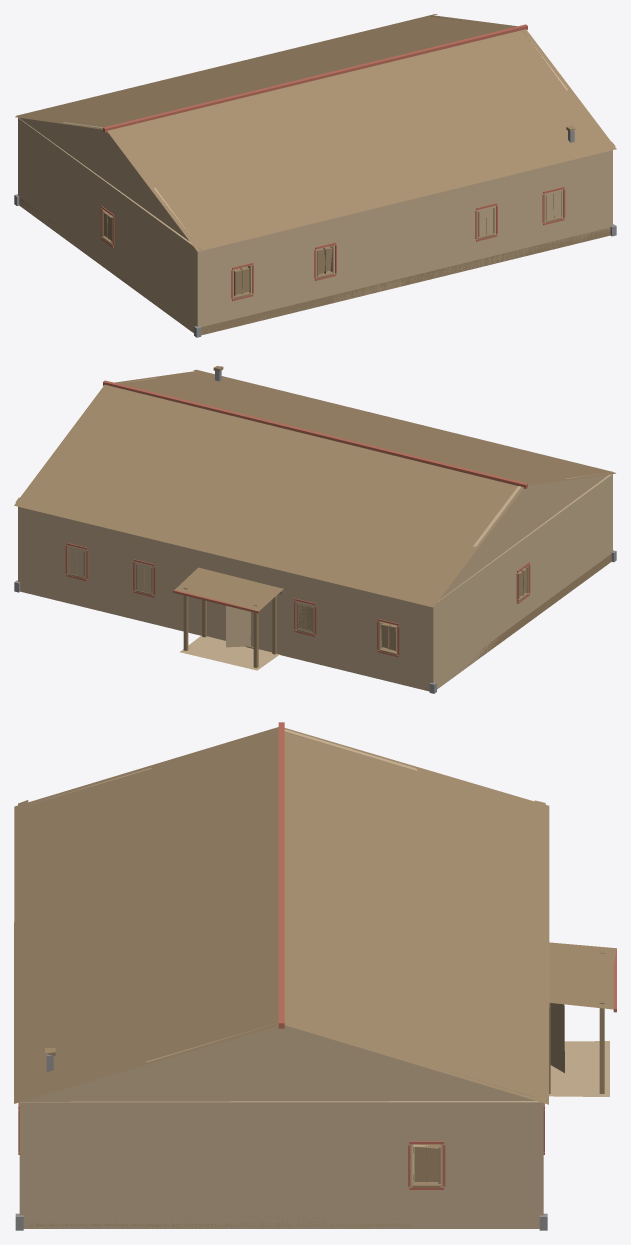
The model's file is 18-Casas_casa_mediana.glb.
3 renders of one model, top to bottom at view 1: azimuth 30°, elevation 25°; view 2: azimuth 150°, elevation 25°; view 3: azimuth 270°, elevation 25°, orthographic. The views are drawn at different scales.
Visible parts, largest first — view 1: SM_Fronton_M_Casa_Acento_Casa_Paja_Clara_Casa_Paja_Oscura_Ca, SM_Fronton_M_Casa_Madera_Clara, SM_Fronton_M_Casa_Piedra_Casa_Piedra_Oscura, SM_Fronton_M_Casa_Madera_Oscura_Casa_Acento, SM_Fronton_M_Casa_Vidrio; view 2: SM_Fronton_M_Casa_Acento_Casa_Paja_Clara_Casa_Paja_Oscura_Ca, SM_Fronton_M_Casa_Madera_Clara, SM_Fronton_M_Casa_Paja_Clara_Casa_Madera_Oscura_Casa_Acento, SM_Fronton_M_Casa_Madera_Oscura_Casa_Acento, SM_Fronton_M_Casa_Piedra_Casa_Piedra_Oscura, SM_Fronton_M_Casa_Madera_Oscura, SM_Fronton_M_Casa_Vidrio; view 3: SM_Fronton_M_Casa_Acento_Casa_Paja_Clara_Casa_Paja_Oscura_Ca, SM_Fronton_M_Casa_Madera_Clara, SM_Fronton_M_Casa_Paja_Clara_Casa_Madera_Oscura_Casa_Acento, SM_Fronton_M_Casa_Madera_Oscura_Casa_Acento, SM_Fronton_M_Casa_Vidrio, SM_Fronton_M_Casa_Piedra_Casa_Piedra_Oscura, SM_Fronton_M_Casa_Madera_Oscura.
Part boxes in pixels (x1,y1,x2,y2): SM_Fronton_M_Casa_Acento_Casa_Paja_Clara_Casa_Paja_Oscura_Ca: [15, 14, 616, 251]; SM_Fronton_M_Casa_Madera_Clara: [18, 16, 612, 334]; SM_Fronton_M_Casa_Piedra_Casa_Piedra_Oscura: [14, 194, 616, 337]; SM_Fronton_M_Casa_Madera_Oscura_Casa_Acento: [100, 187, 565, 300]; SM_Fronton_M_Casa_Vidrio: [104, 212, 332, 294]; SM_Fronton_M_Casa_Acento_Casa_Paja_Clara_Casa_Paja_Oscura_Ca: [14, 369, 615, 607]; SM_Fronton_M_Casa_Madera_Clara: [18, 378, 612, 691]; SM_Fronton_M_Casa_Paja_Clara_Casa_Madera_Oscura_Casa_Acento: [173, 567, 283, 613]; SM_Fronton_M_Casa_Madera_Oscura_Casa_Acento: [65, 543, 530, 657]; SM_Fronton_M_Casa_Piedra_Casa_Piedra_Oscura: [14, 550, 616, 693]; SM_Fronton_M_Casa_Madera_Oscura: [183, 586, 396, 667]; SM_Fronton_M_Casa_Vidrio: [298, 568, 527, 650]; SM_Fronton_M_Casa_Acento_Casa_Paja_Clara_Casa_Paja_Oscura_Ca: [14, 722, 549, 1104]; SM_Fronton_M_Casa_Madera_Clara: [16, 729, 609, 1228]; SM_Fronton_M_Casa_Paja_Clara_Casa_Madera_Oscura_Casa_Acento: [549, 942, 616, 1012]; SM_Fronton_M_Casa_Madera_Oscura_Casa_Acento: [18, 1102, 544, 1189]; SM_Fronton_M_Casa_Vidrio: [414, 1146, 438, 1181]; SM_Fronton_M_Casa_Piedra_Casa_Piedra_Oscura: [15, 1213, 547, 1230]; SM_Fronton_M_Casa_Madera_Oscura: [428, 951, 604, 1146].
Bounding box in the file's own units: 16.3 × 5.27 × 13.81.
